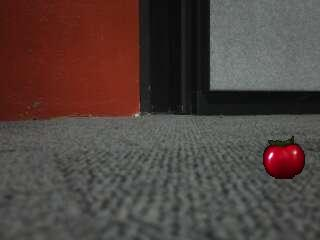Tomato: (262, 136, 306, 178)
